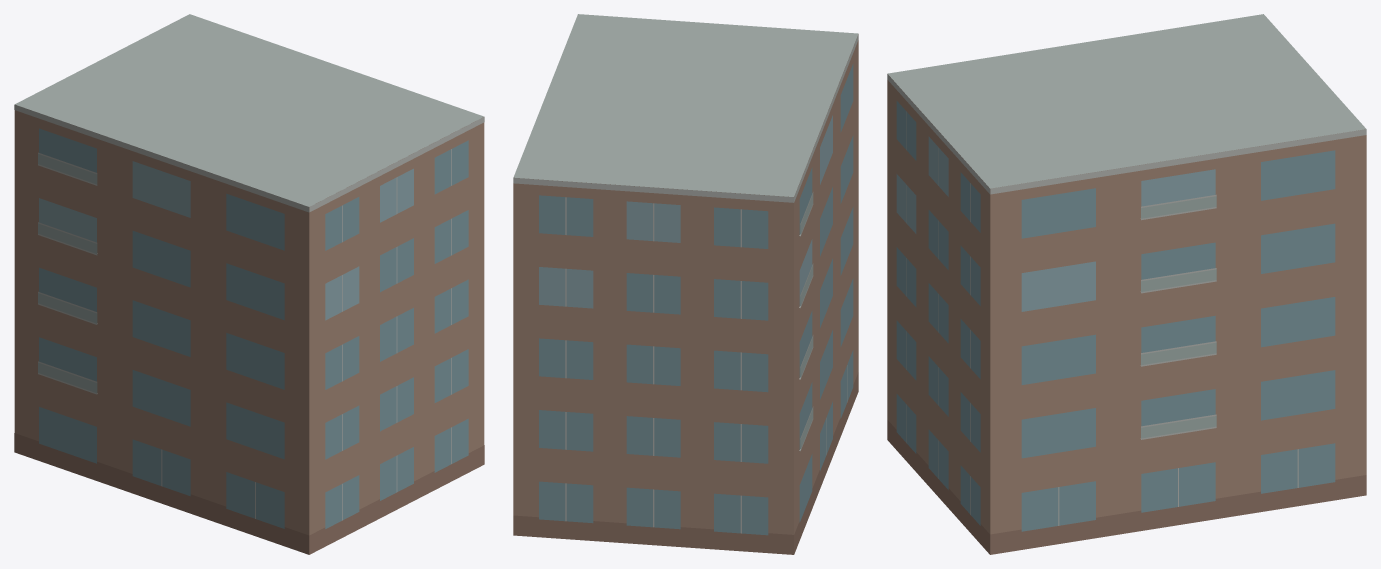
File: survey-upis-32998362.glb
The picture shows the model from 3 angles, left to right: view 1: azimuth 30°, elevation 25°; view 2: azimuth 150°, elevation 25°; view 3: azimuth 270°, elevation 25°; orthographic projection. The views are drawn at different scales.
Visible parts, largest first — view 1: survey-upis-32998362.tmp; view 2: survey-upis-32998362.tmp; view 3: survey-upis-32998362.tmp.
Boxes of the visible parts, box(x1,y1,x2,y2) form: survey-upis-32998362.tmp: box(14, 14, 484, 554); survey-upis-32998362.tmp: box(513, 14, 858, 554); survey-upis-32998362.tmp: box(887, 14, 1366, 554).
Bounding box in the file's own units: 15.61 × 15.25 × 18.1.
